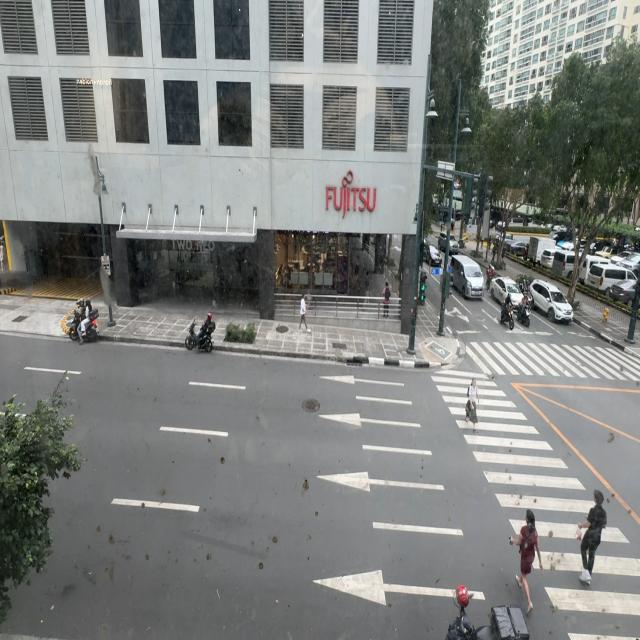crossing: (576, 477, 610, 597), (512, 511, 547, 626), (464, 379, 480, 433)
pedestrain: (298, 294, 308, 332)
